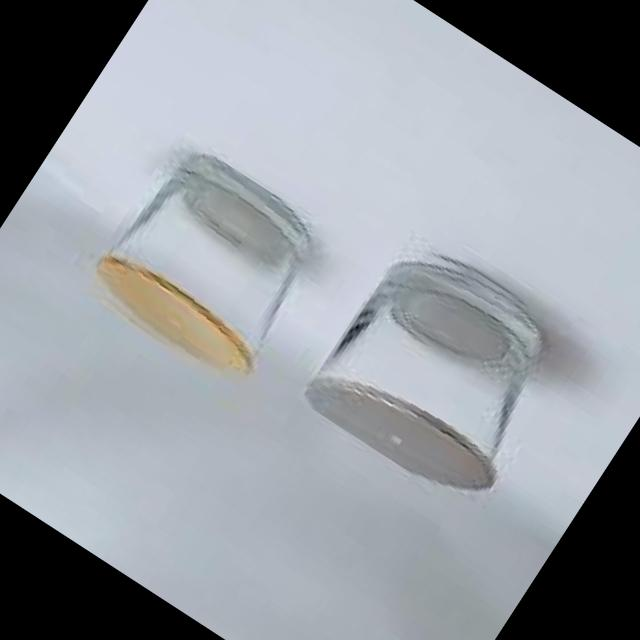Glass: (295, 222, 586, 512), (75, 131, 339, 394)
